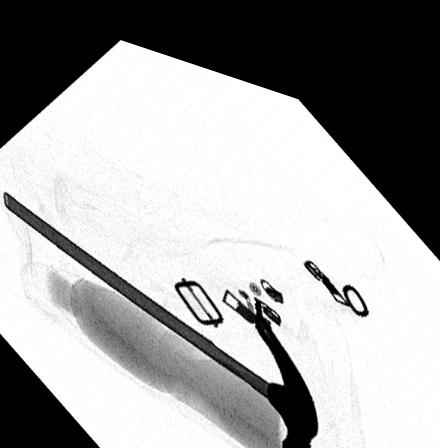Hammer: (1, 189, 319, 448)
